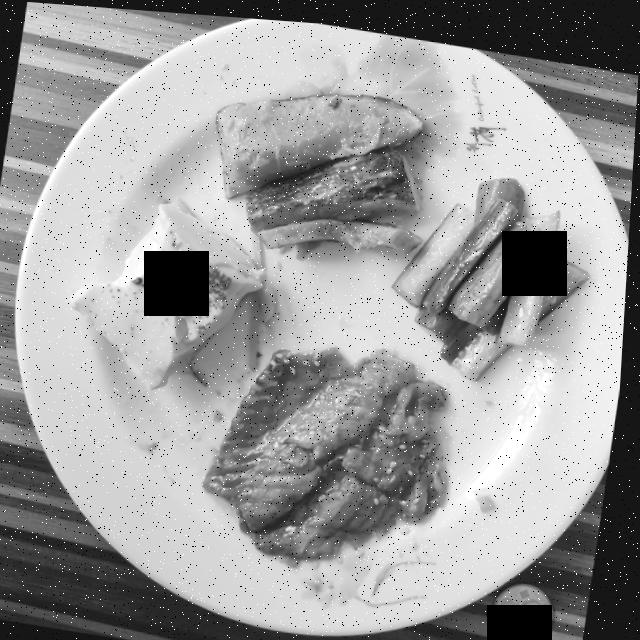Kabayaki sea bream fillet: (209, 342, 450, 554)
coin: (500, 574, 560, 633)
cucumber: (396, 168, 591, 372)
pumpkin: (217, 88, 423, 245)
